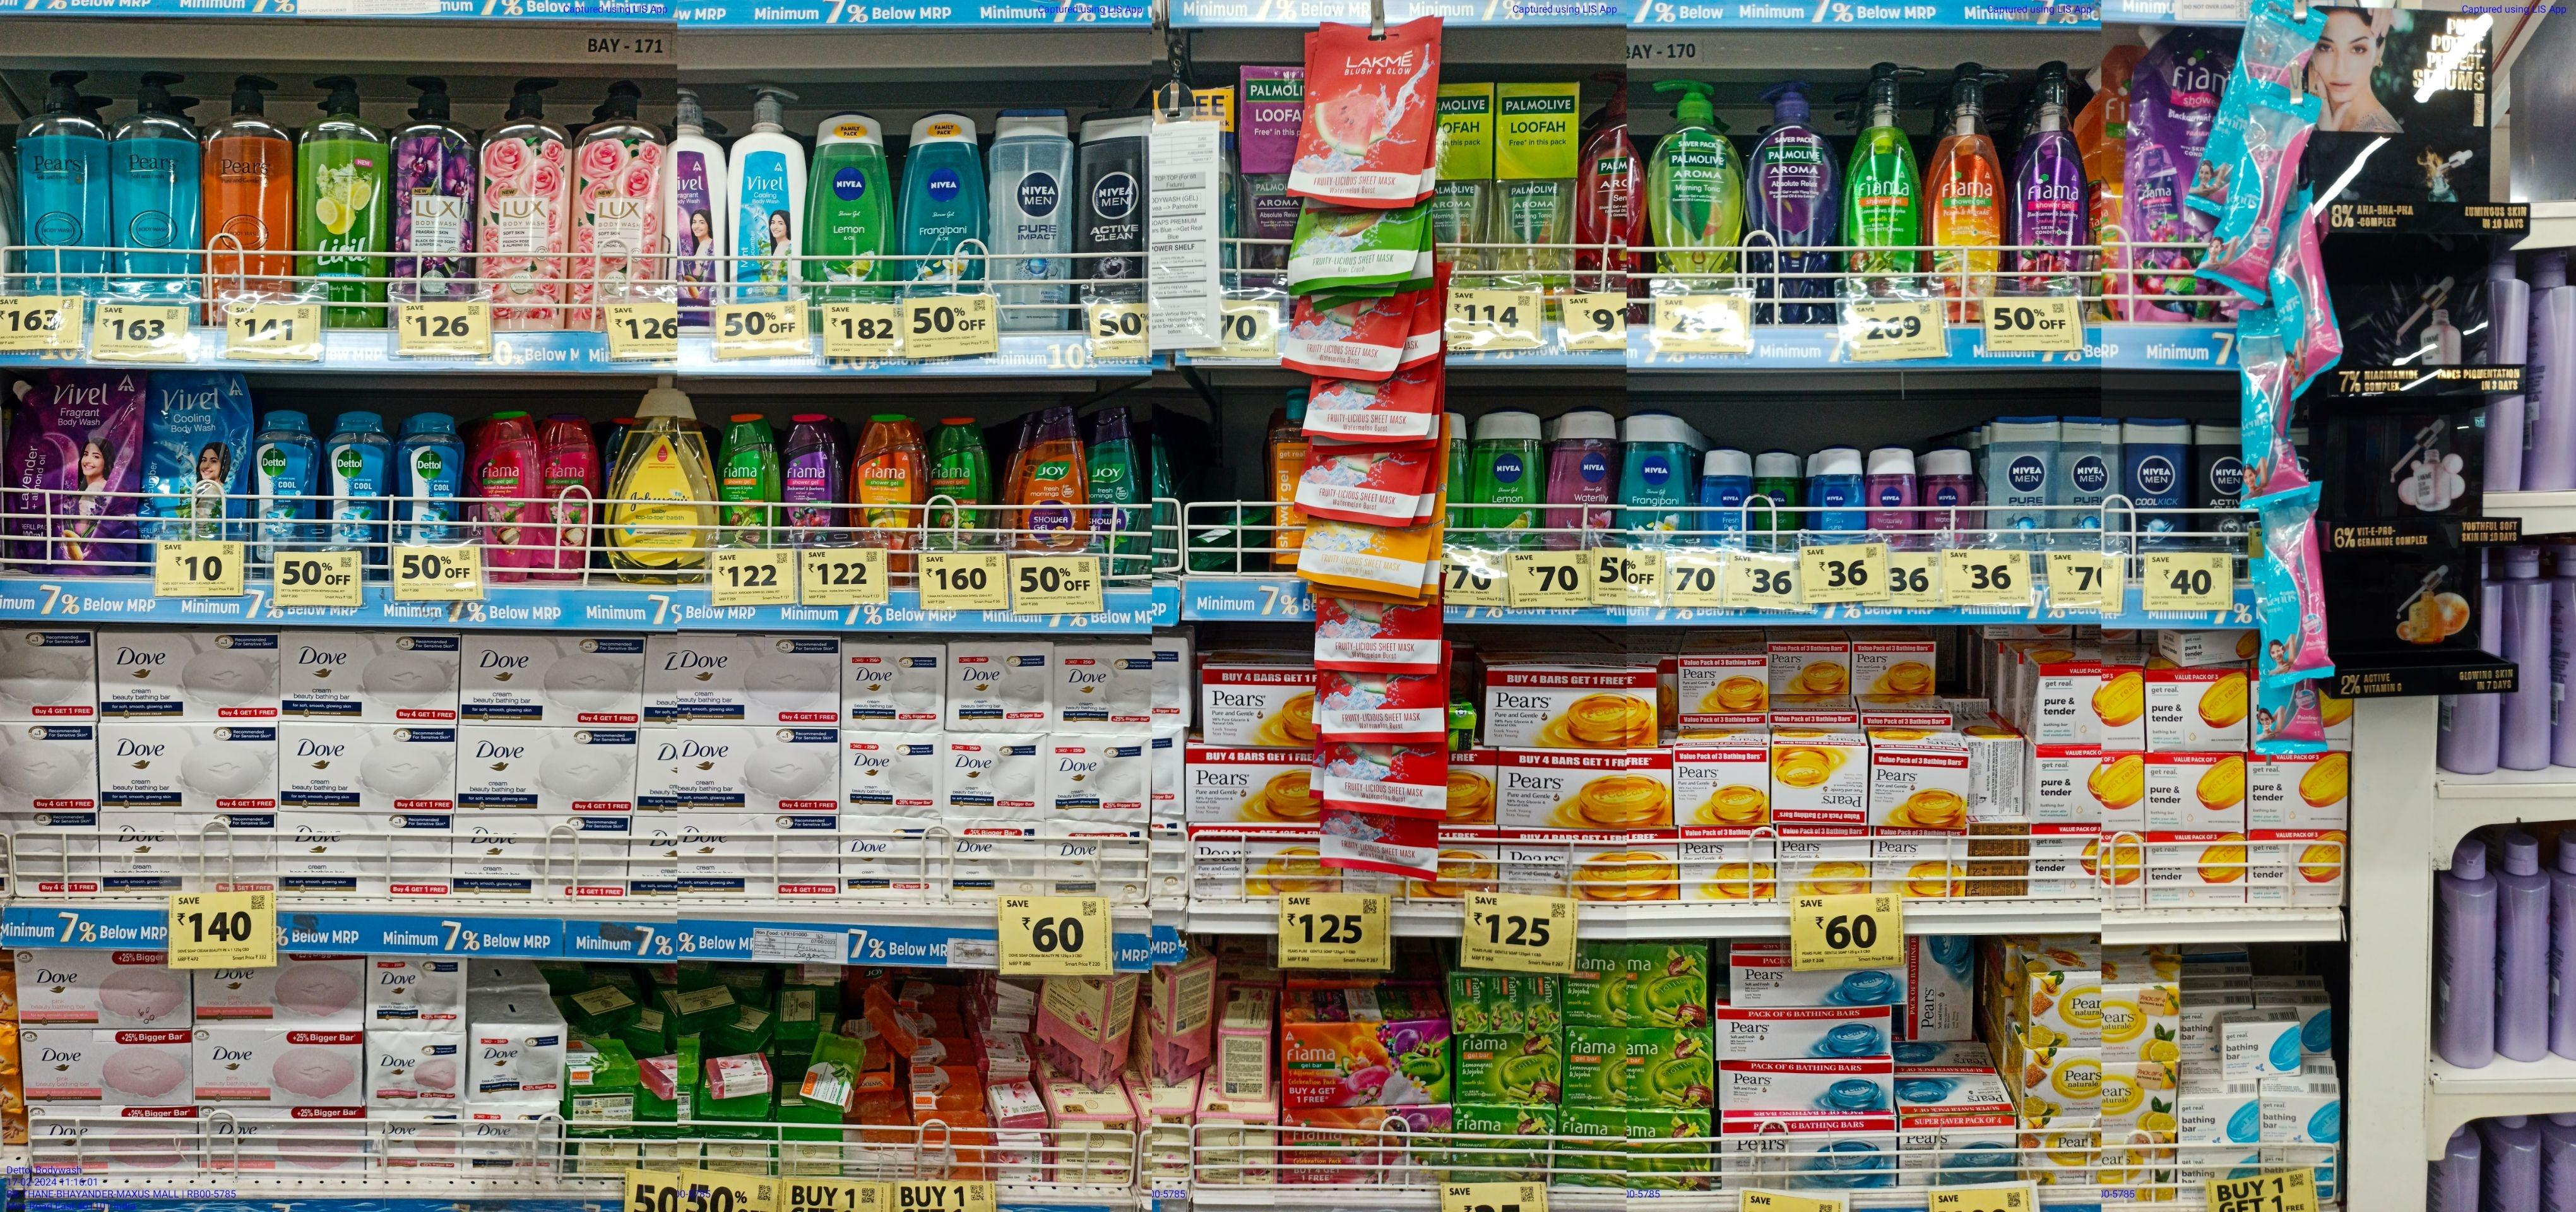Dettol_Bodywash_Cool: (327, 414, 391, 573), (255, 411, 317, 565), (398, 417, 460, 562)
Fiama_Shower_Gel_Lemongrass_and_Jojoba_250ML: (930, 415, 989, 550), (718, 414, 777, 547)
Fiama_Shower_Gel_Patchouli_and_Macadamia_250ML: (473, 415, 534, 588), (542, 411, 598, 583)
Fiama_Shower_Gel_Peach_and_Avocado_250ML: (854, 414, 925, 588)
Joy_Shower_Gel_Mandarin_and_Lemongrass_250ML: (1015, 404, 1089, 552)
Joy_Shower_Gel_Mint_and_Eucalyptus_250ML: (1093, 407, 1148, 585)
Nivea_Shower_Gel_Frangipani_and_Oil_250ML: (1620, 414, 1690, 545)
Nivea_Shower_Gel_Lemon_and_Oil_250ML: (1469, 409, 1544, 549)
Nivea_Shower_Gel_Waterlily_and_Oil_250ML: (1546, 411, 1613, 549)
